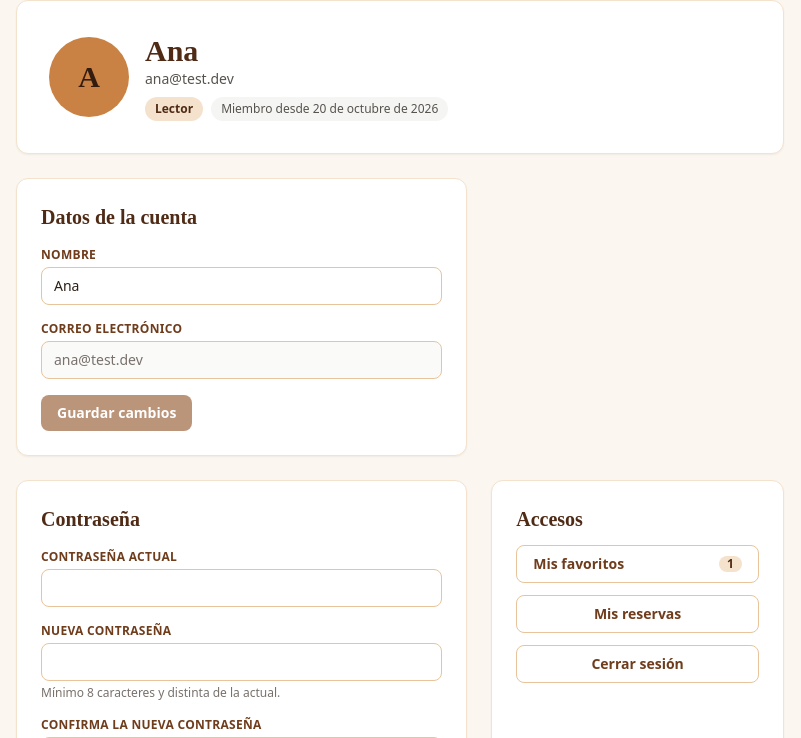
Test: ProfilePage › shows the account details and saves a new name
Expected: the heading "Ana" is shown, [145,34,198,67]
Expected: the text "Lector" is shown, [145,97,203,121]
Replace the text in the field labelled "Nombre" with "  Ana Lectora " at [242, 286], box [41,267,442,305]
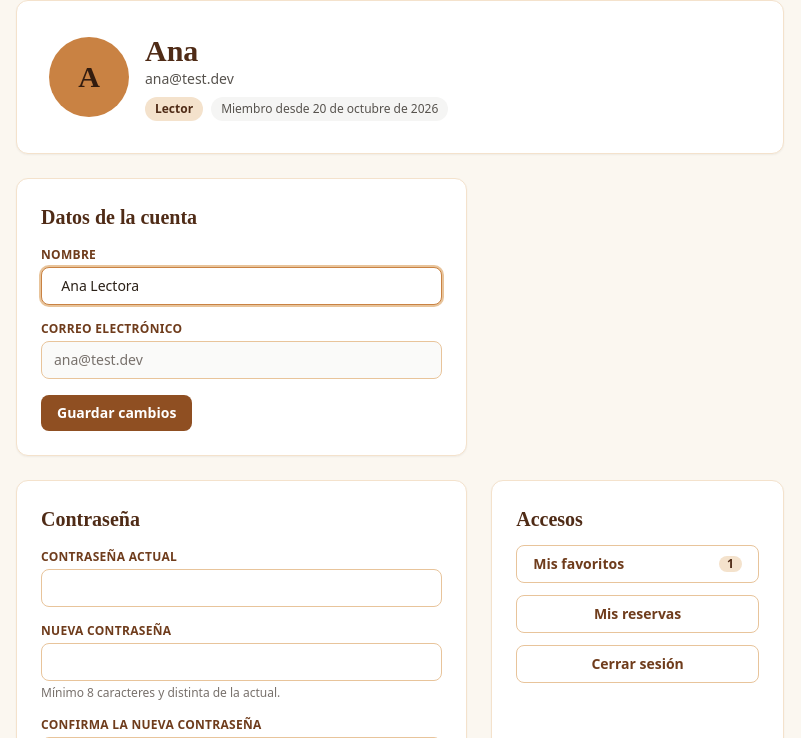
Click the button "Guardar cambios" at [117, 413], box [41,395,192,431]
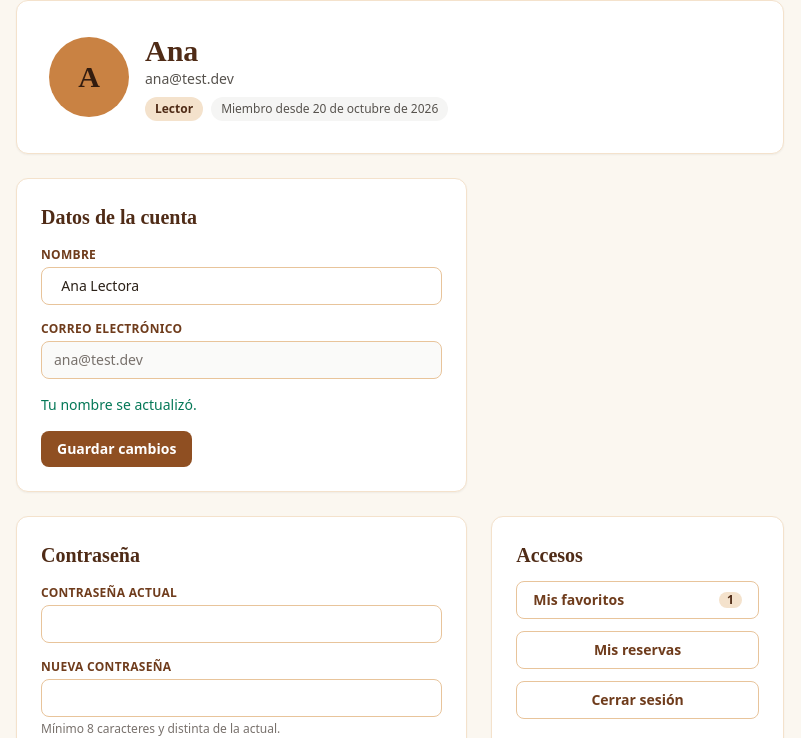
Expected: the message reads "Tu nombre se actualizó.", [41,395,197,414]
